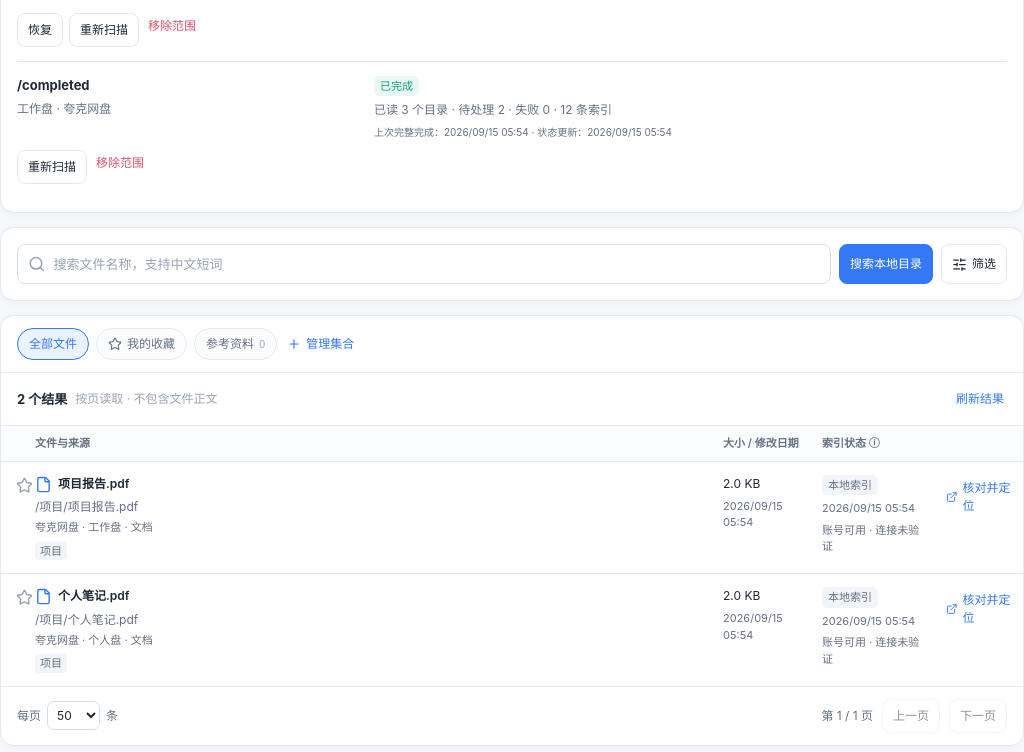
does not leak a prior file save failure into a newly selected file editor
(page scrolled)
Click the button with class "file-name" showing "项目报告.pdf" at (82, 484), box [35,475,130,493]
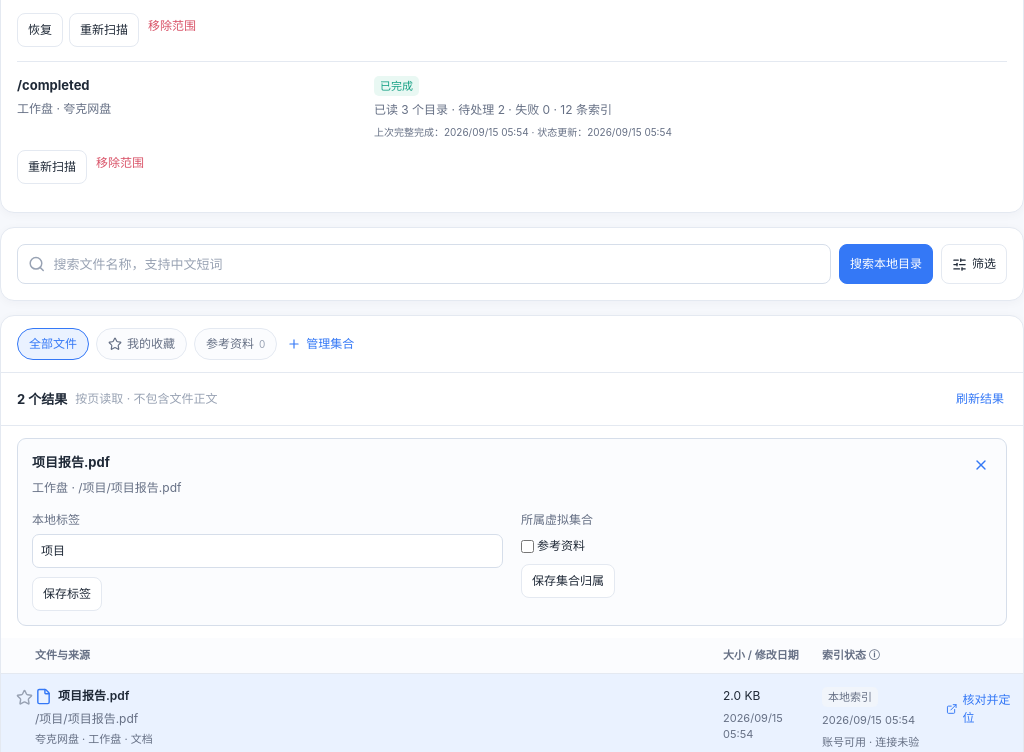
Replace the text in the field named "本地标签" with "旧文件标签" at (268, 551), box [32,534,503,568]
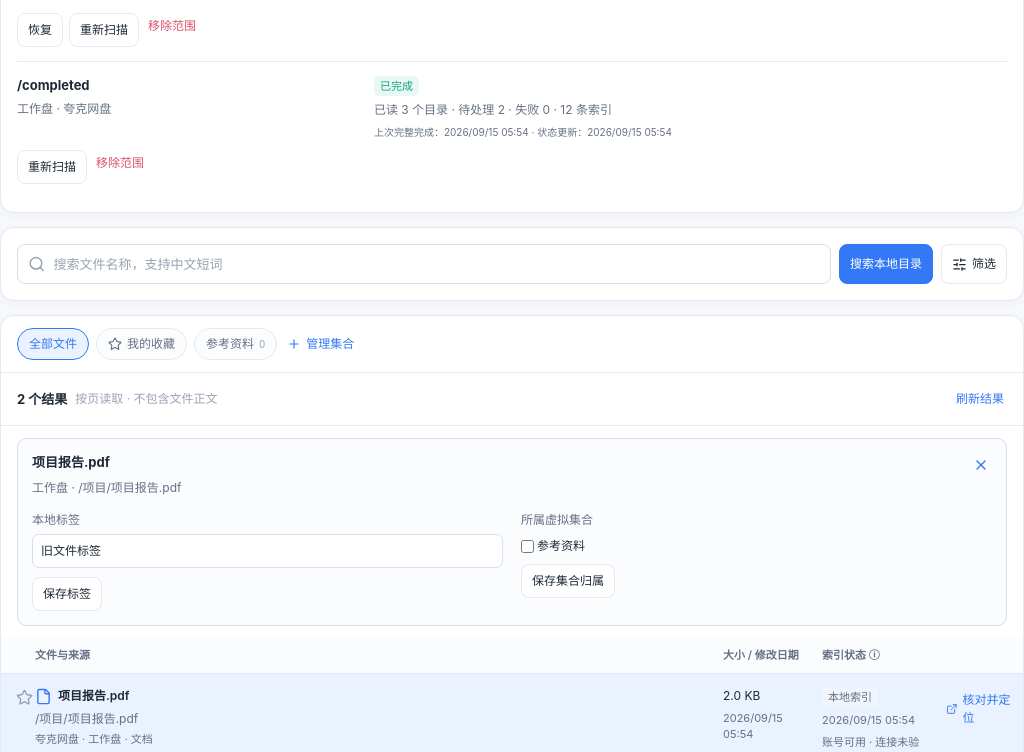
Submit the form "本地标签 保存标签", box [32,511,503,611]
(page scrolled)
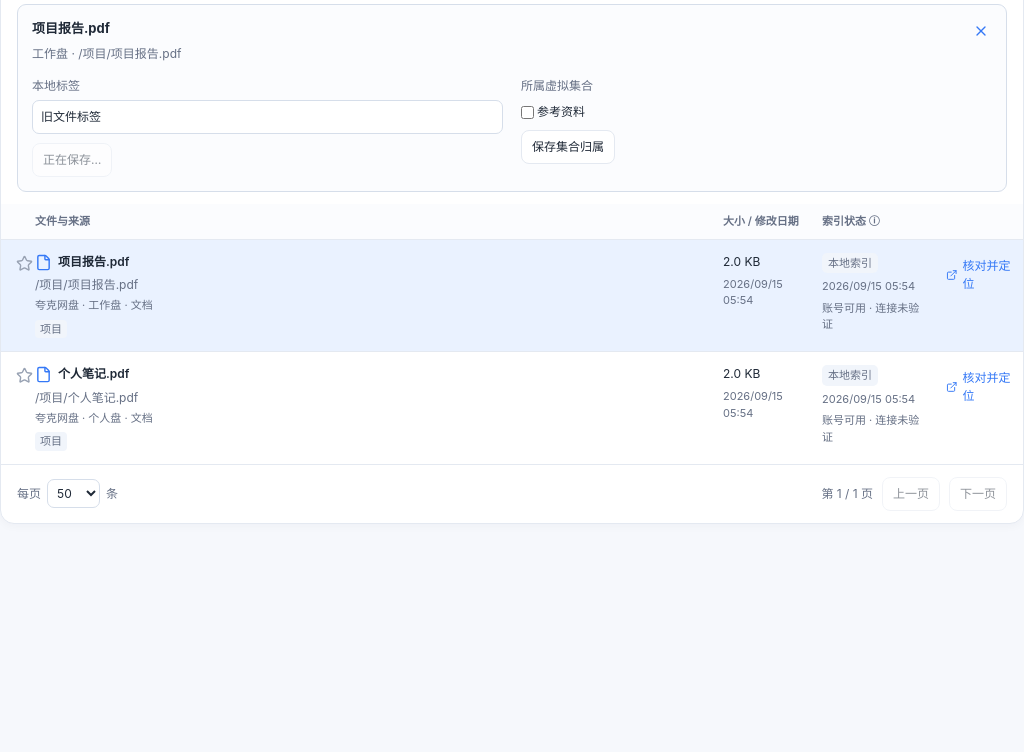
Click the button with class "file-name" showing "个人笔记.pdf" at (82, 375), box [35,365,130,384]
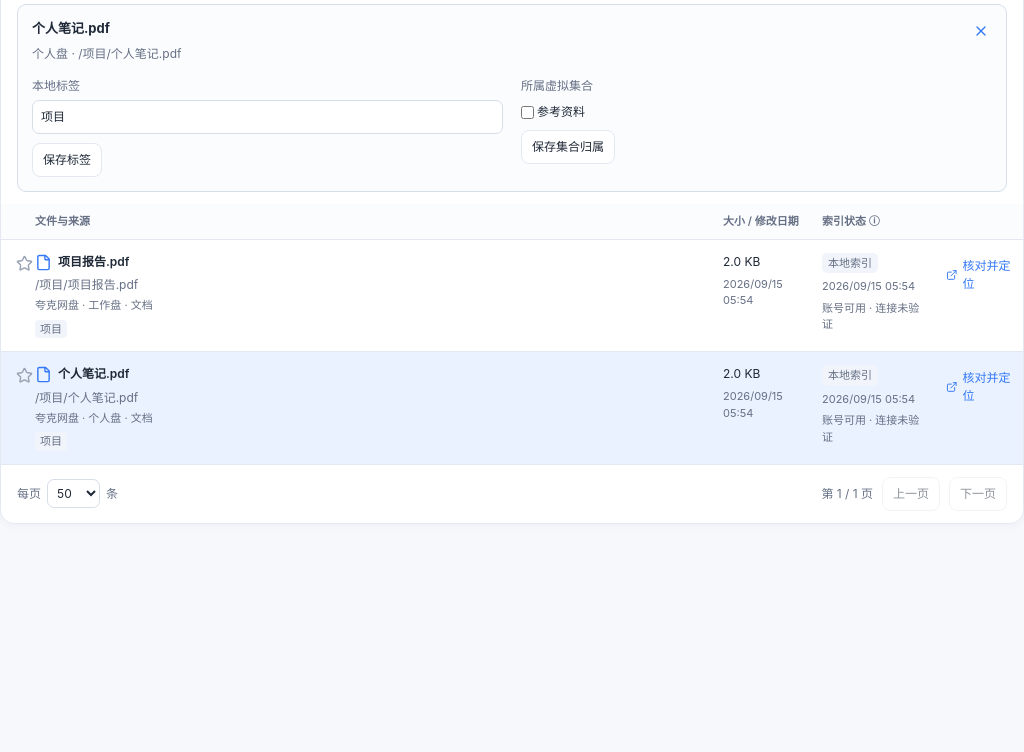
expect the element with class "editor-title" reads "个人笔记.pdf": met, box [32,20,110,36]
expect the field named "本地标签" holds "项目": met, box [32,100,503,134]
expect the button "保存标签" is enabled: met, box [32,143,102,177]
